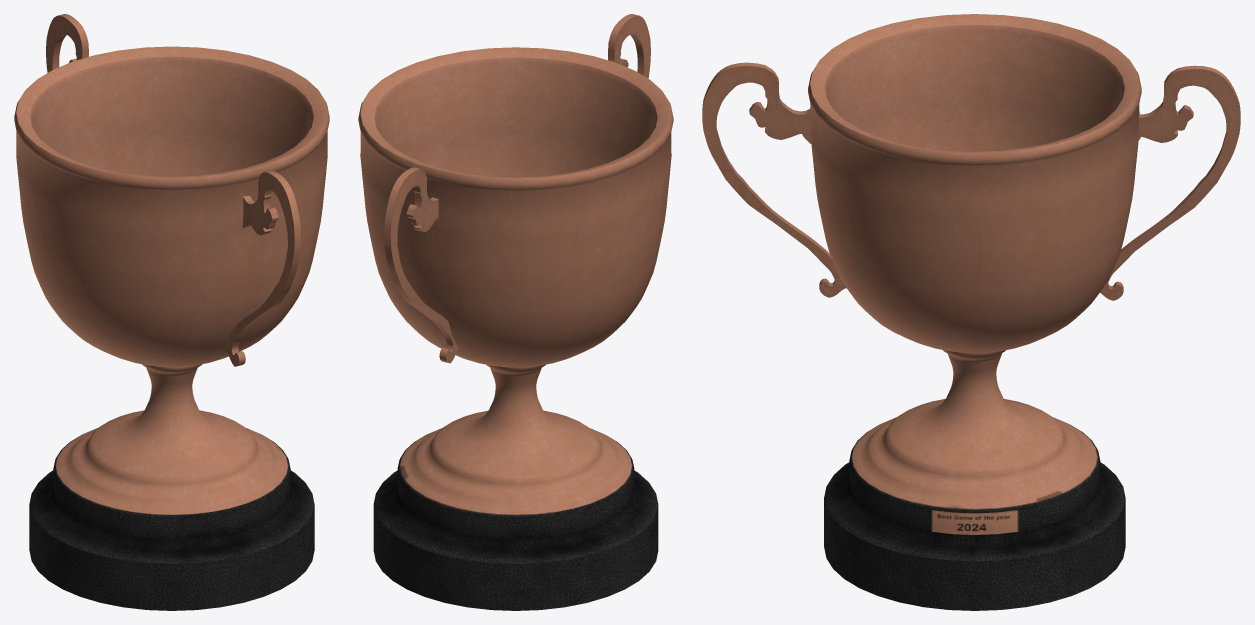
3 views of the same model, side by side, from view 1: azimuth 30°, elevation 25°; view 2: azimuth 150°, elevation 25°; view 3: azimuth 270°, elevation 25° (orthographic). The views are drawn at different scales.
Parts seen in each view (by area): view 1: Trophy, Hangle (×2); view 2: Trophy, Hangle (×2); view 3: Trophy, Hangle (×2).
Boxes of the visible parts, left/top/right/bottom form: Trophy: left=14, top=46, right=329, bottom=610; Hangle (×2): left=46, top=14, right=300, bottom=366; Trophy: left=358, top=47, right=673, bottom=610; Hangle (×2): left=384, top=14, right=650, bottom=363; Trophy: left=808, top=14, right=1141, bottom=610; Hangle (×2): left=702, top=62, right=1240, bottom=300.
Bounding box in the file's own units: 160 × 254 × 258.
